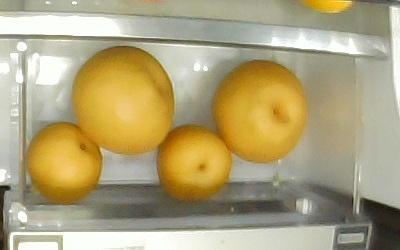pear: (72, 46, 175, 155), (212, 60, 308, 164), (26, 122, 103, 204), (156, 124, 232, 204)
